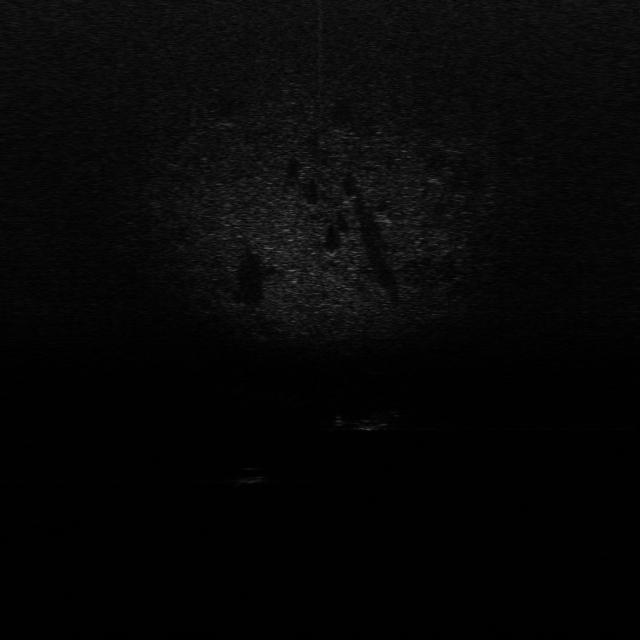ball: (234, 465, 267, 488)
human body: (334, 404, 407, 433)
